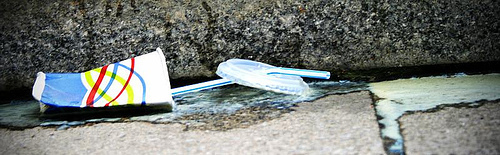litter: (30, 48, 172, 112), (172, 58, 330, 95)
